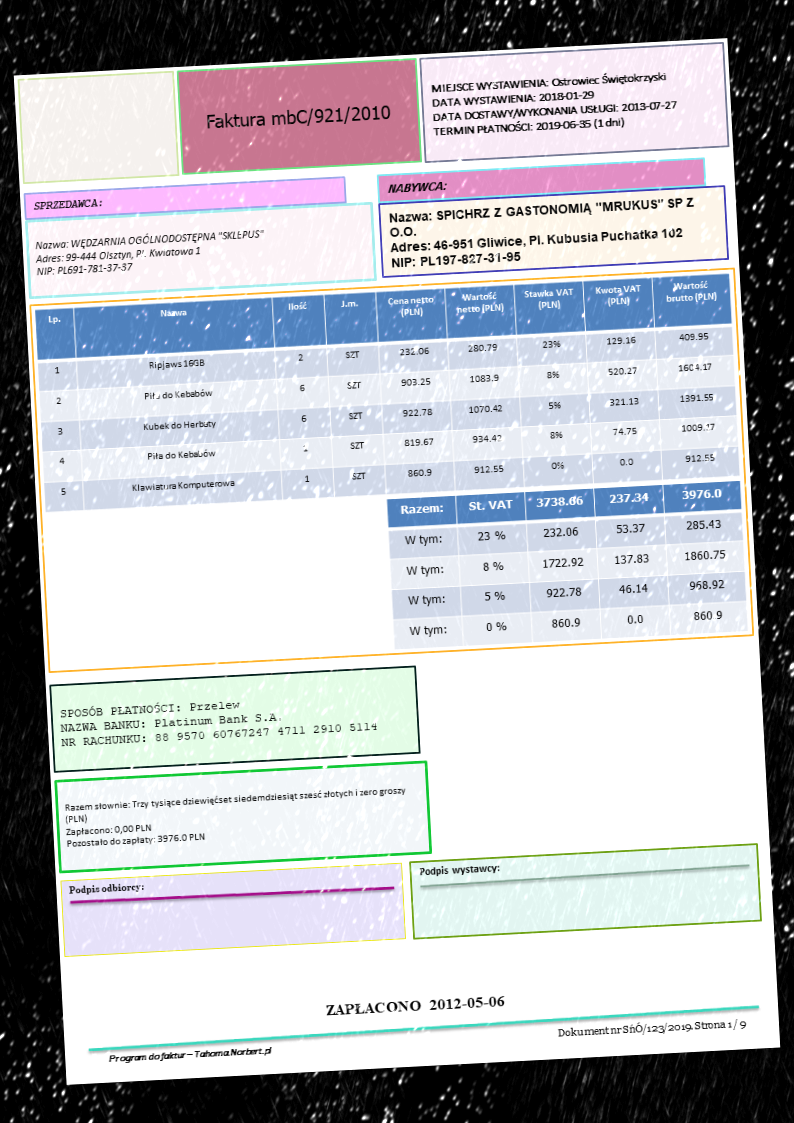Table: (32, 271, 742, 516), (386, 480, 751, 650)
TextBox: (383, 191, 701, 274), (61, 782, 411, 853), (57, 686, 380, 754), (426, 67, 682, 142), (31, 222, 271, 281), (196, 94, 394, 137), (553, 1014, 750, 1045), (322, 991, 511, 1022), (104, 1039, 278, 1067), (415, 859, 505, 882), (65, 876, 147, 900), (383, 174, 449, 199), (27, 193, 103, 214)
